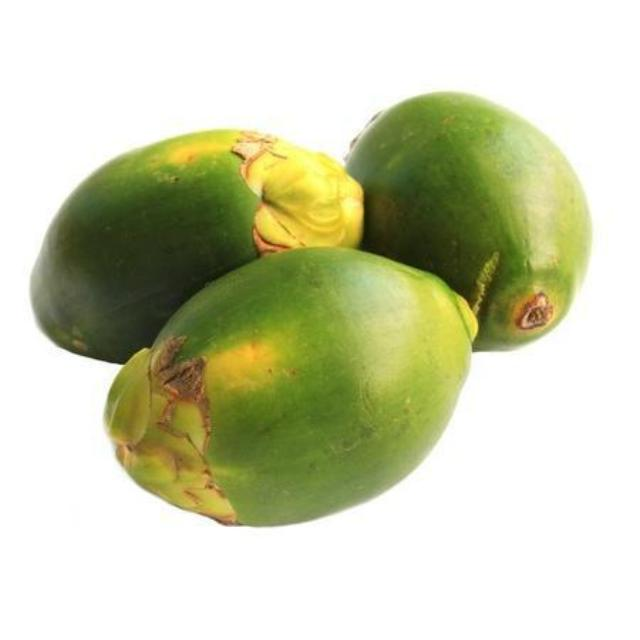good: (104, 250, 473, 528), (28, 129, 362, 361), (344, 90, 590, 352)
